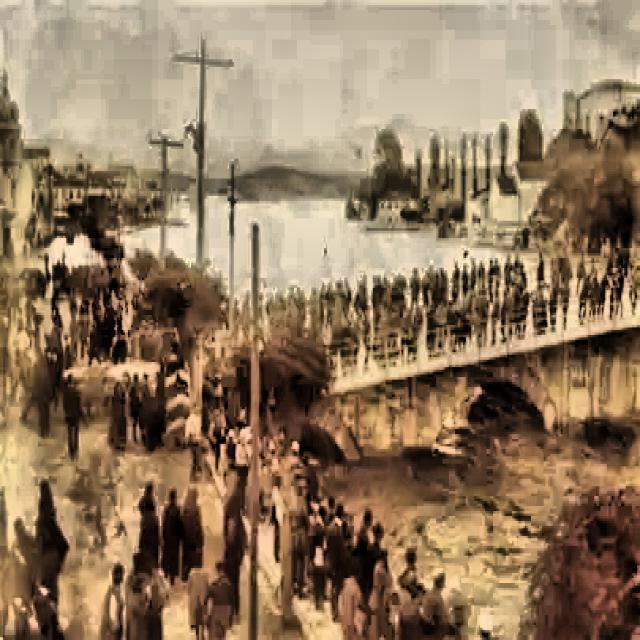stone bridge: (268, 275, 640, 446)
